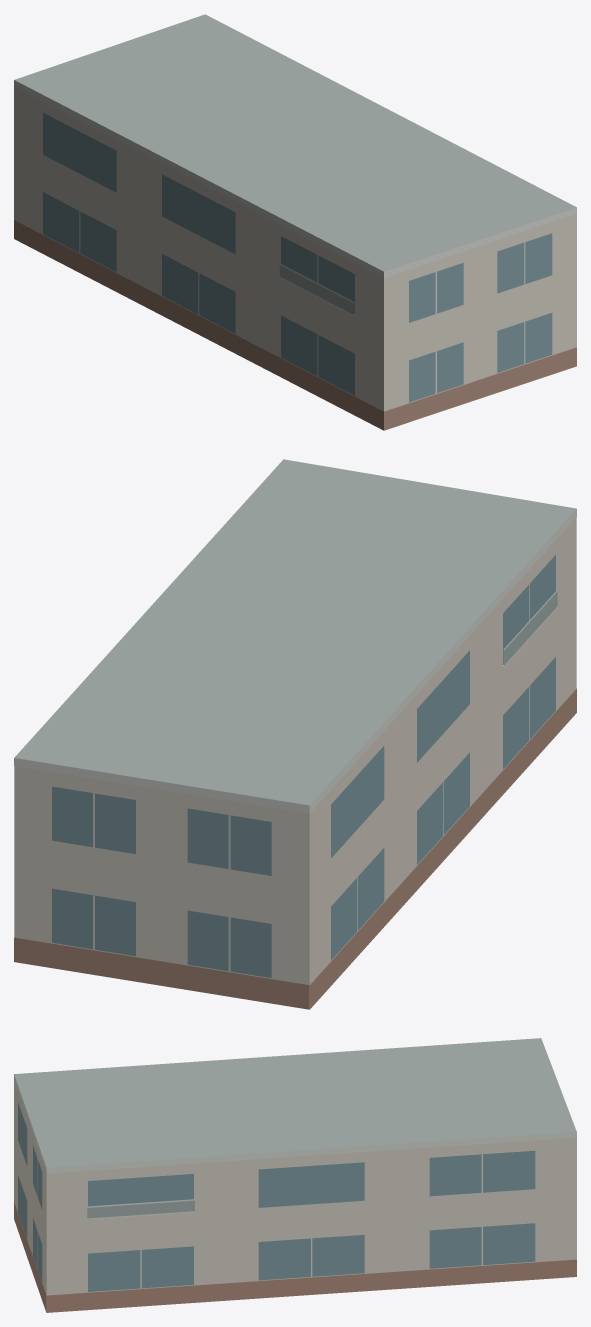
File: survey-upis-32574639.glb
3 renders of one model, top to bottom at view 1: azimuth 30°, elevation 25°; view 2: azimuth 150°, elevation 25°; view 3: azimuth 270°, elevation 25°, orthographic. The views are drawn at different scales.
Visible parts, largest first — view 1: survey-upis-32574639.tmp; view 2: survey-upis-32574639.tmp; view 3: survey-upis-32574639.tmp.
Boxes of the visible parts, bbox=[...] form: survey-upis-32574639.tmp: bbox=[14, 14, 576, 430]; survey-upis-32574639.tmp: bbox=[14, 459, 576, 1009]; survey-upis-32574639.tmp: bbox=[14, 1038, 576, 1312].
Bounding box in the file's own units: 11.72 × 6.1 × 21.46.
